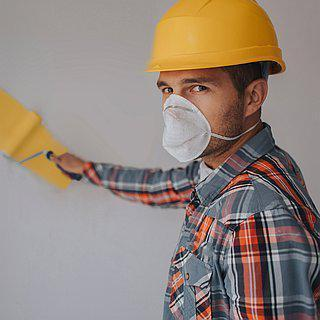helmet: (142, 0, 287, 74)
